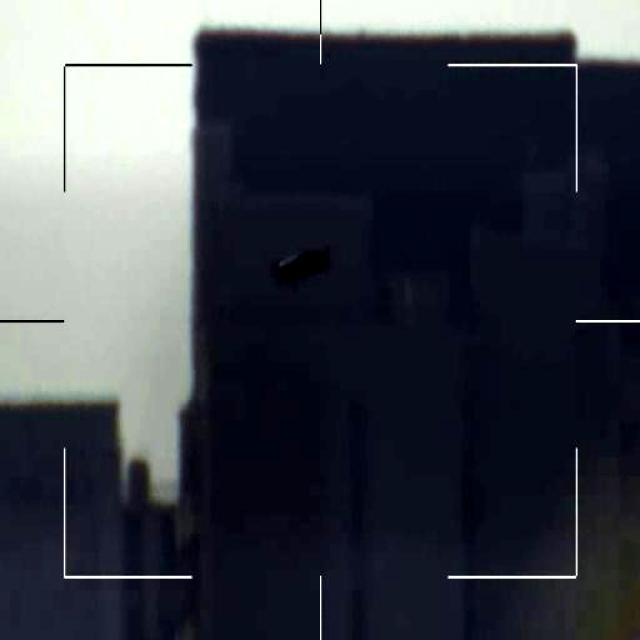bird: (274, 245, 335, 292)
